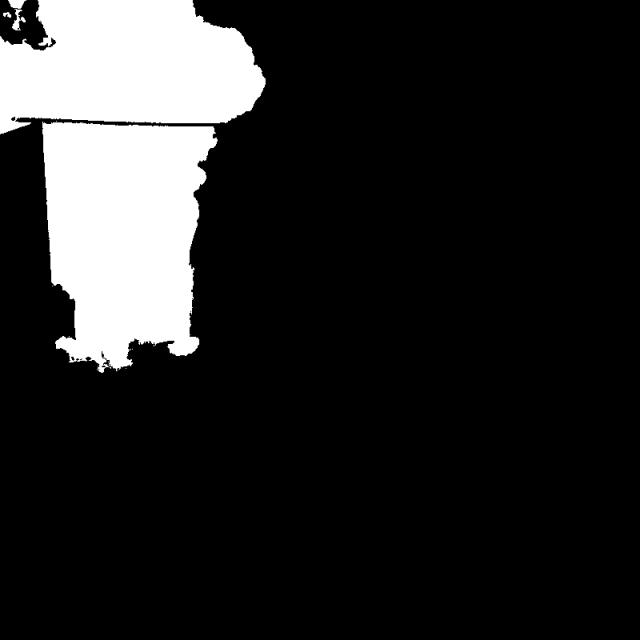fire: (0, 0, 272, 407)
